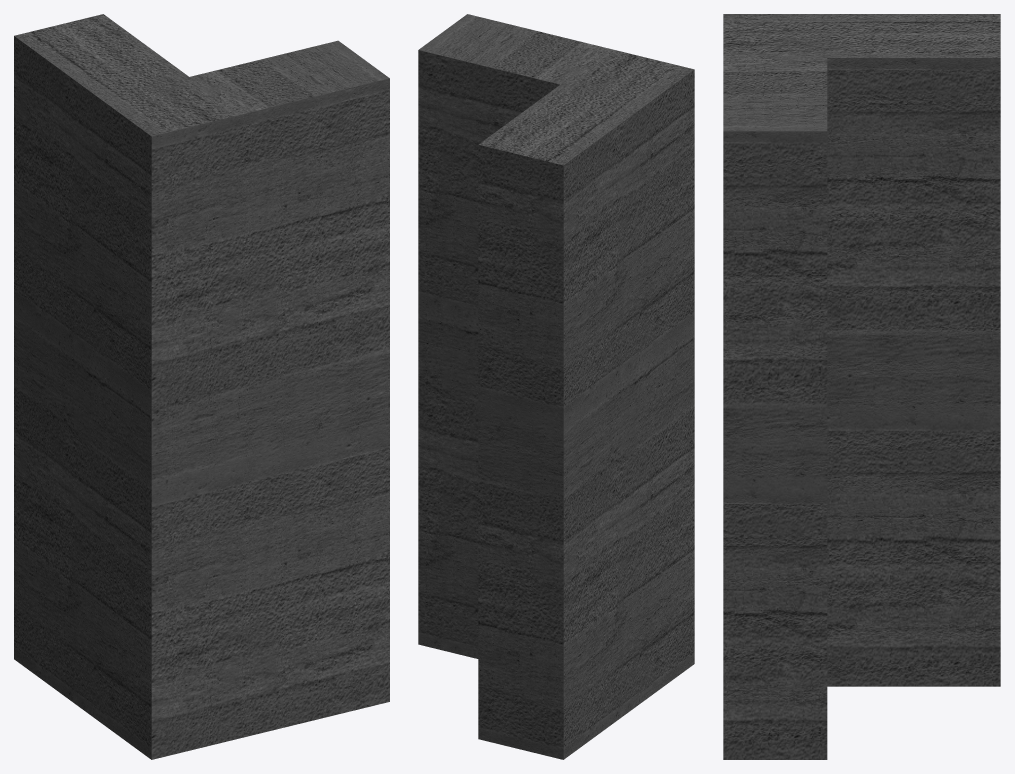
Rendered from Wall Corner Untextured.fbx.
3 renders of one model, left to right at view 1: azimuth 30°, elevation 25°; view 2: azimuth 150°, elevation 25°; view 3: azimuth 270°, elevation 25°, orthographic. The views are drawn at different scales.
Visible parts, largest first — view 1: Box001; view 2: Box001; view 3: Box001.
Boxes of the visible parts, x1=… form: Box001: x1=14, y1=14, x2=389, y2=759; Box001: x1=418, y1=14, x2=694, y2=759; Box001: x1=723, y1=14, x2=1000, y2=759.
Size of the model in its own units: 31.5 by 78.74 by 31.5.
Materials: 1 (1 with a texture image).
